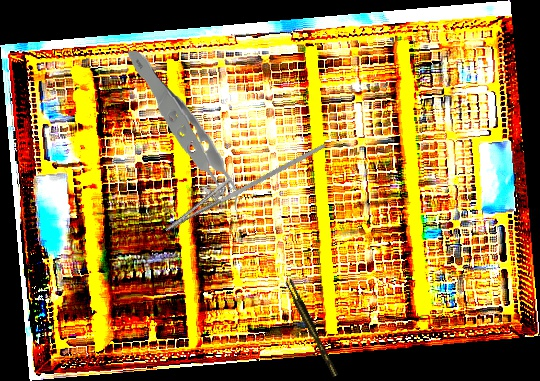Needle Holder: (157, 115, 326, 250)
Tissue Forceps: (126, 45, 240, 224), (284, 277, 339, 380)
